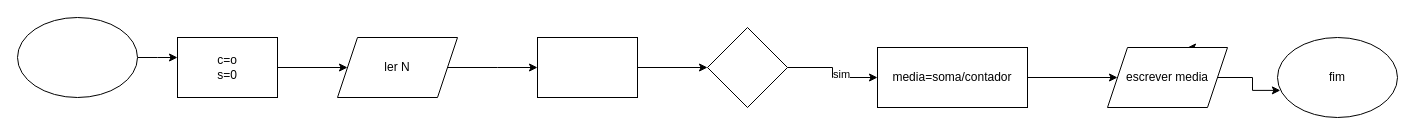
The diagram is 1415 pixels wide and 135 high, and some of its shapes have lost their labels. Here are the shapes that lost their labels. From the top down, the centre of each, then its label:
the point at 77,57: inicio
the point at 587,67: c=c+1 s=soma+N
the point at 747,67: soma>1000
